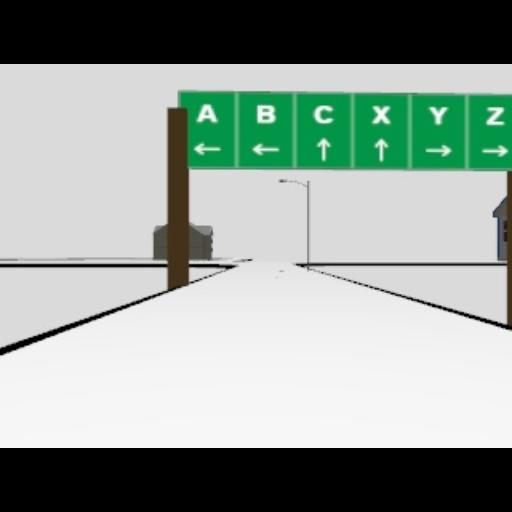A: (195, 102, 217, 122)
B: (256, 104, 276, 124)
C: (312, 104, 332, 124)
Left: (192, 142, 220, 156), (252, 142, 280, 156)
Right: (480, 144, 508, 156), (424, 144, 452, 156)
Straight: (316, 136, 330, 160), (373, 138, 387, 160)
X: (372, 104, 390, 124)
Y: (428, 106, 448, 124)
Z: (484, 106, 504, 124)
